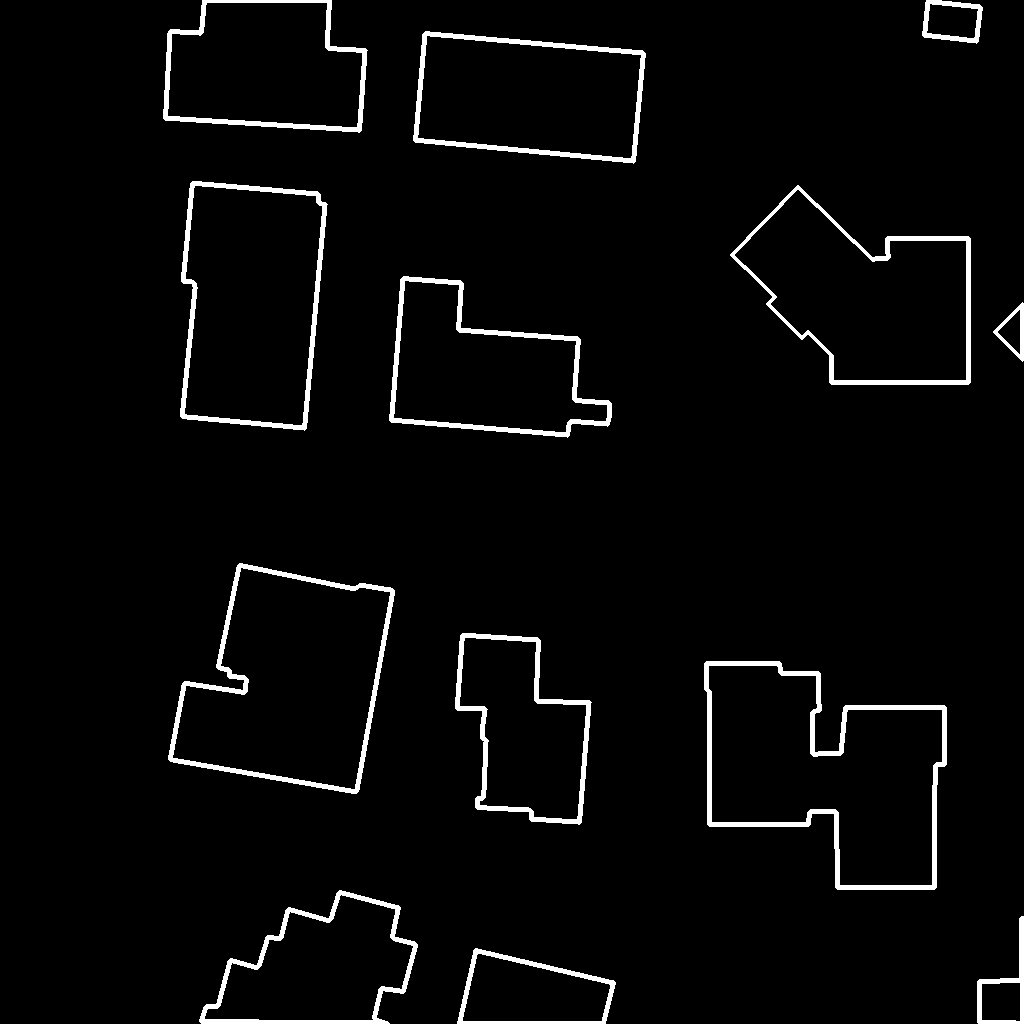building: (706, 663, 946, 888), (170, 565, 394, 793), (732, 187, 970, 383), (182, 183, 326, 429), (391, 278, 611, 436), (415, 33, 645, 162), (201, 892, 417, 1024), (165, 0, 366, 131), (457, 635, 590, 823), (459, 950, 615, 1024), (979, 918, 1024, 1024), (924, 1, 982, 42), (995, 304, 1024, 361)
